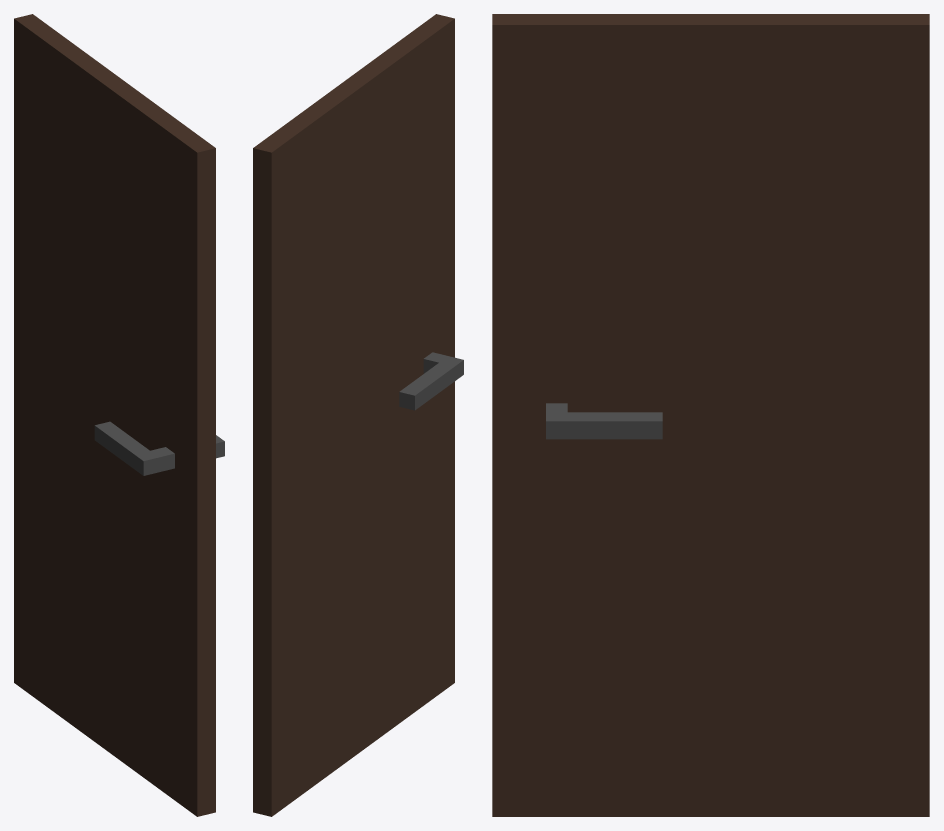
The model's file is Door.fbx.
The picture shows the model from 3 angles, left to right: view 1: azimuth 30°, elevation 25°; view 2: azimuth 150°, elevation 25°; view 3: azimuth 270°, elevation 25°; orthographic projection. The views are drawn at different scales.
Parts seen in each view (by area): view 1: Model; view 2: Model; view 3: Model.
Part boxes in pixels (x1=…): Model: x1=14, y1=14, x2=224, y2=816; Model: x1=253, y1=14, x2=463, y2=816; Model: x1=492, y1=14, x2=929, y2=816.
Size of the model in its own units: 0.3228 by 2.52 by 1.26.
